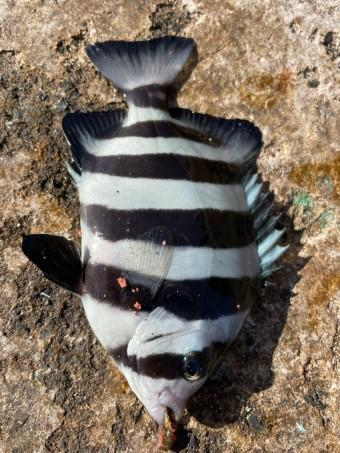fish: (23, 36, 286, 425)
